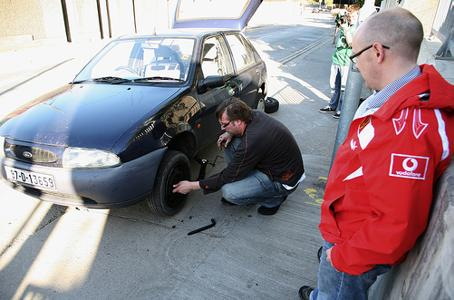person: (170, 97, 307, 217)
